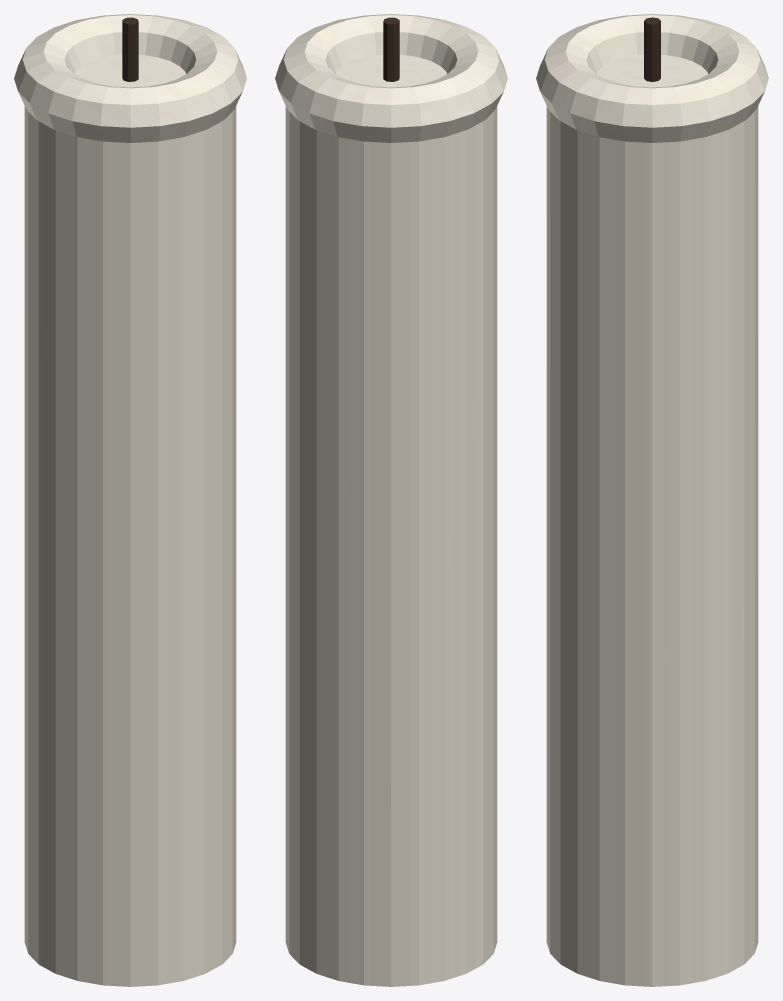
File: candle_tall.glb
3 renders of one model, left to right at view 1: azimuth 30°, elevation 25°; view 2: azimuth 150°, elevation 25°; view 3: azimuth 270°, elevation 25°, orthographic.
Visible parts, largest first — view 1: Wax, MeltRim, Wick; view 2: Wax, MeltRim, Wick; view 3: Wax, MeltRim, Wick.
Part boxes in pixels (x1,y1,x2,y2): Wax: (24,55,236,986); MeltRim: (14,14,246,142); Wick: (122,17,138,81); Wax: (285,55,497,986); MeltRim: (275,14,507,142); Wick: (383,17,399,81); Wax: (546,55,758,986); MeltRim: (536,14,768,142); Wick: (644,17,660,81).
Size of the model in its own units: 0.044 by 0.192 by 0.044.
2 materials, 1 textured.
